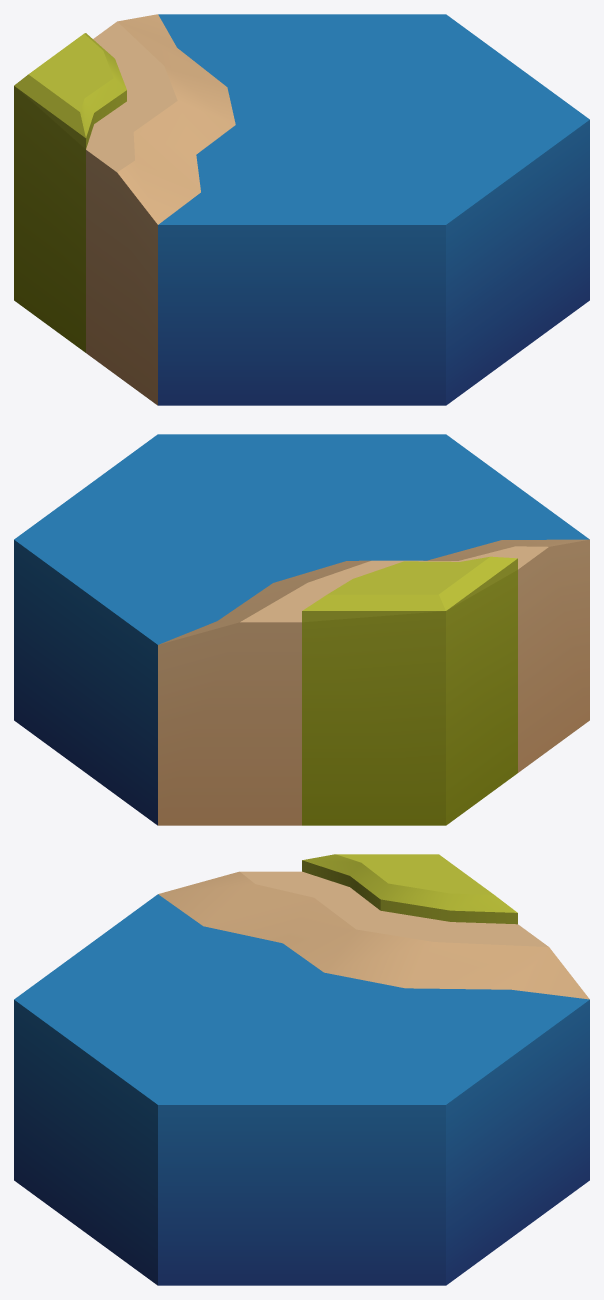
The model's file is hex_coast_D.glb.
3 renders of one model, top to bottom at view 1: azimuth 30°, elevation 25°; view 2: azimuth 150°, elevation 25°; view 3: azimuth 270°, elevation 25°, orthographic.
Visible parts, largest first — view 1: hex_coast_D; view 2: hex_coast_D; view 3: hex_coast_D.
Part boxes in pixels (left/top/right/bottom): hex_coast_D: left=14, top=14, right=589, bottom=405; hex_coast_D: left=14, top=434, right=589, bottom=825; hex_coast_D: left=14, top=854, right=589, bottom=1285.
Bounding box in the file's own units: 2 × 1 × 2.31.
Materials: 1 (1 with a texture image).
